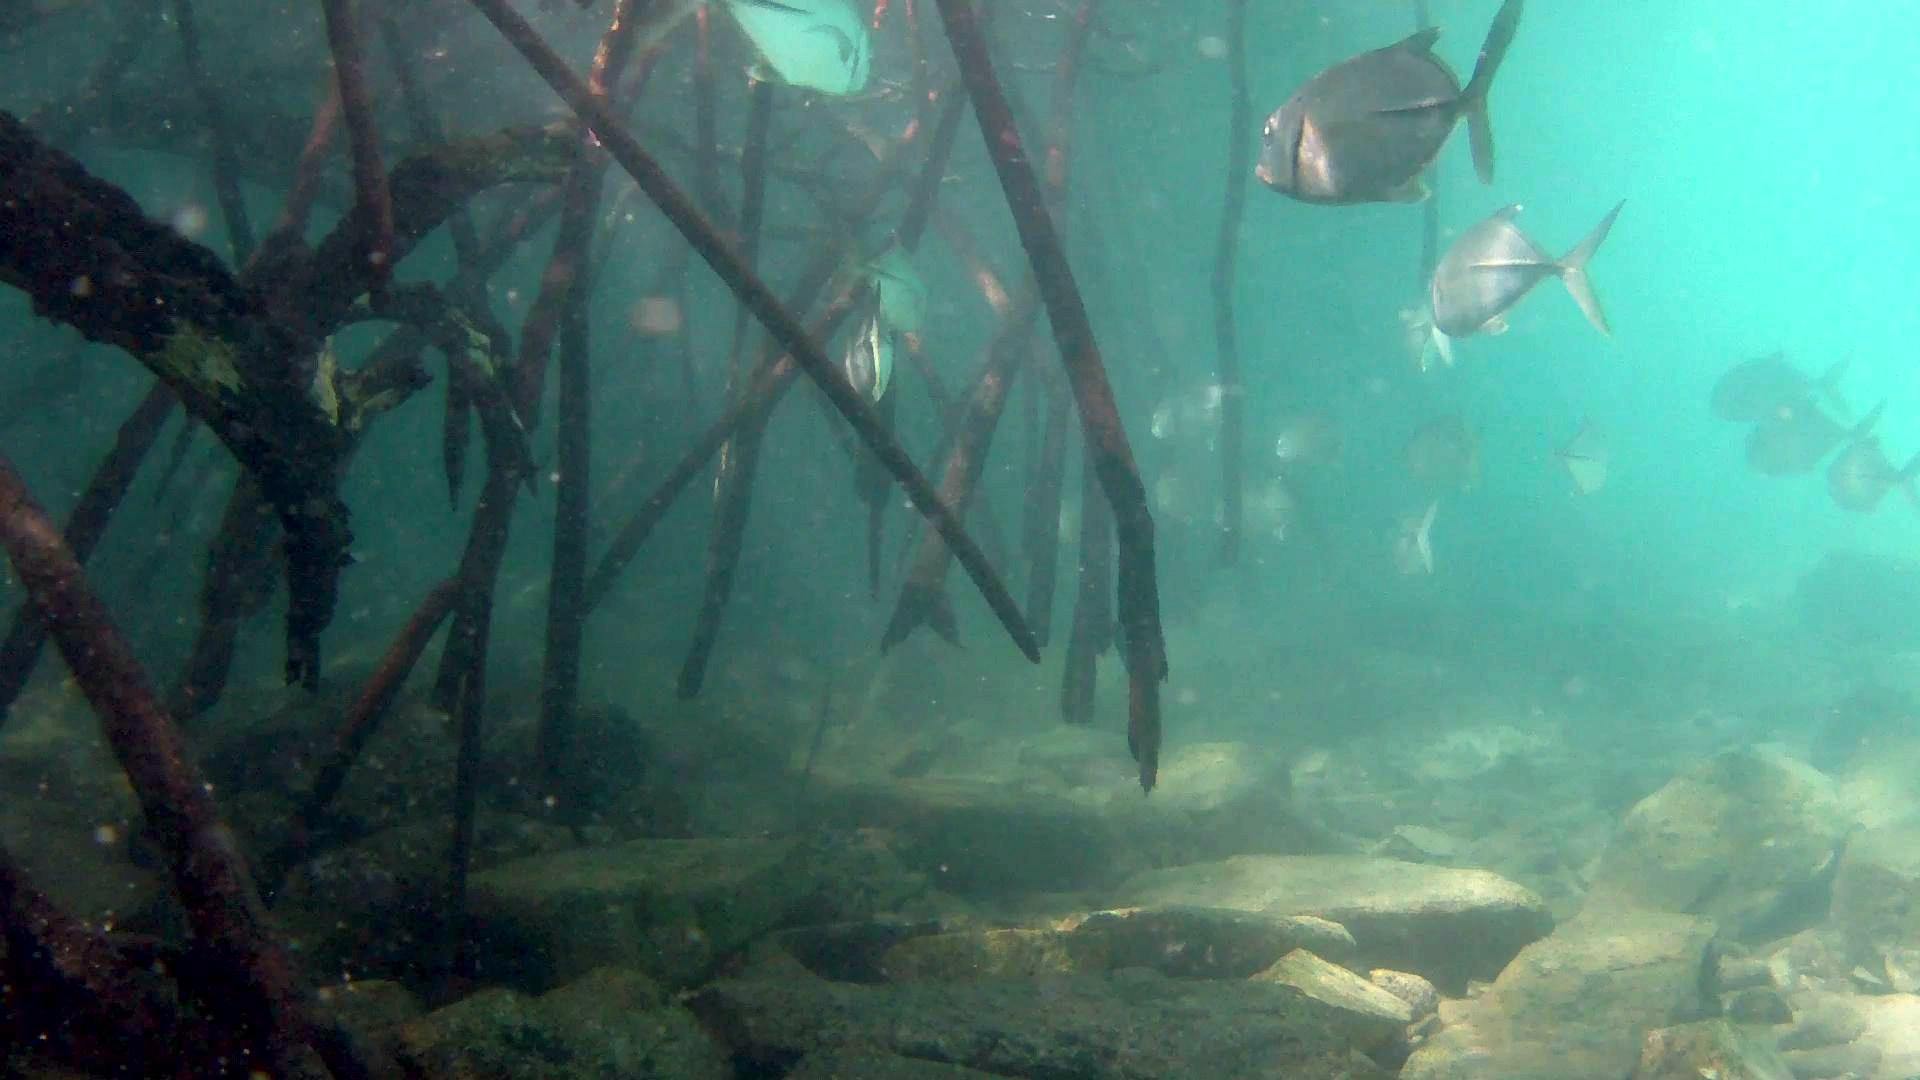caranx: (1236, 0, 1549, 211), (1423, 189, 1633, 363), (720, 0, 899, 98)
